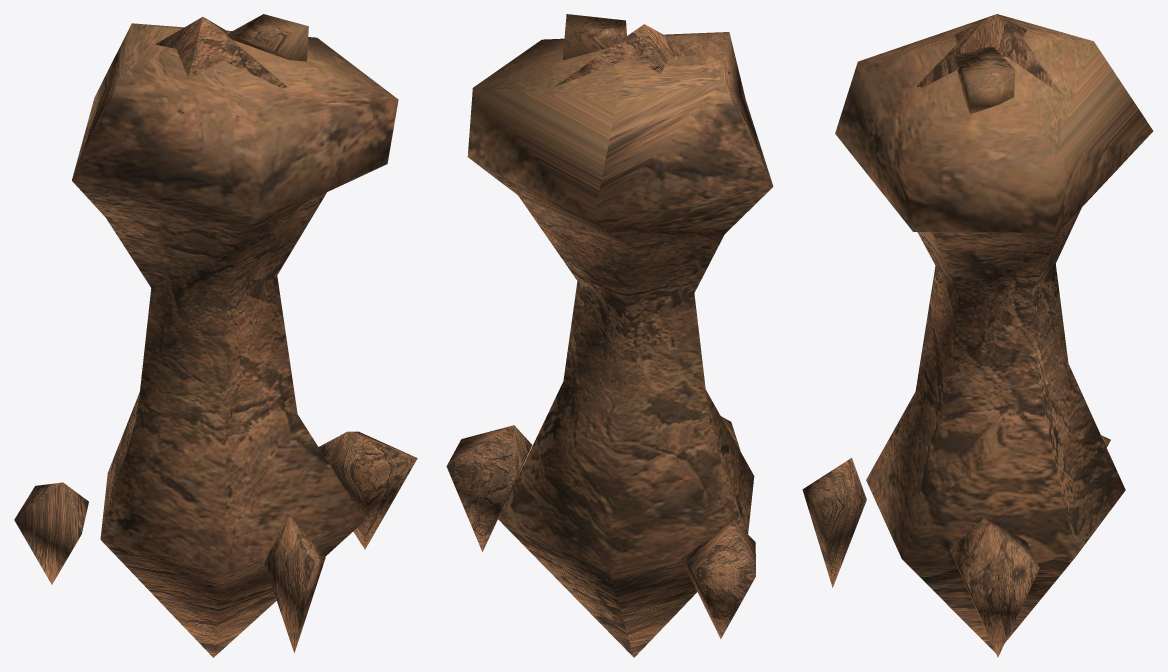
The model's file is rock_tatt_mushroom_l4.fbx.
3 views of the same model, side by side, from view 1: azimuth 30°, elevation 25°; view 2: azimuth 150°, elevation 25°; view 3: azimuth 270°, elevation 25° (orthographic).
Visible parts, largest first — view 1: mesh_node; view 2: mesh_node; view 3: mesh_node.
Boxes of the visible parts, bbox=[...] form: mesh_node: bbox=[14, 14, 417, 657]; mesh_node: bbox=[446, 14, 773, 657]; mesh_node: bbox=[802, 14, 1153, 657].
Bounding box in the file's own units: 28.23 × 49.51 × 24.84.
1 material, 1 textured.
